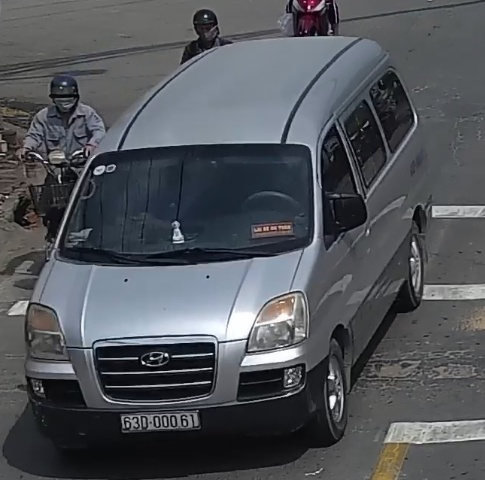vehicle plate: (120, 405, 206, 436)
